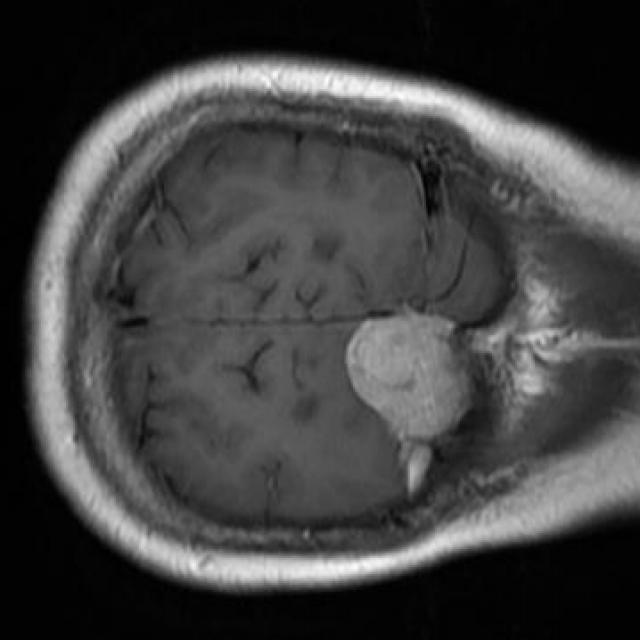meningioma: (344, 316, 476, 494)
